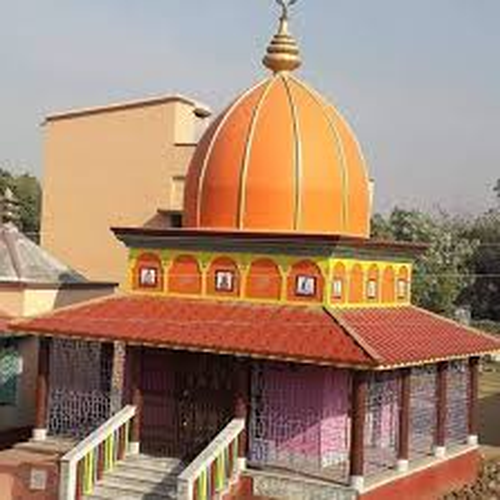Temple: (41, 7, 483, 467)
